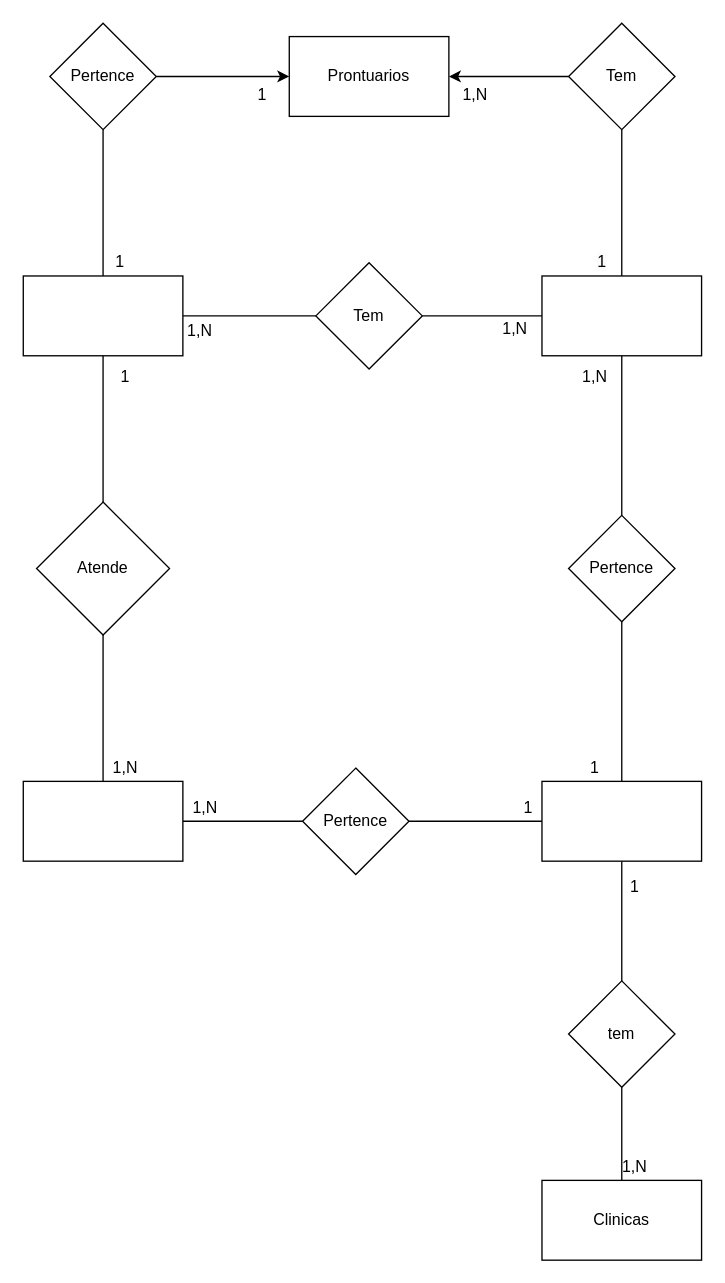
Some shapes in this 725 by 1283 pixel diagram are drawn without their labels. Here are the shapes that lost their labels. From the top down, the centre of each, then its label:
(102,315): Paciente
(621,315): Medico
(102,820): Atendente
(621,820): Hospital
